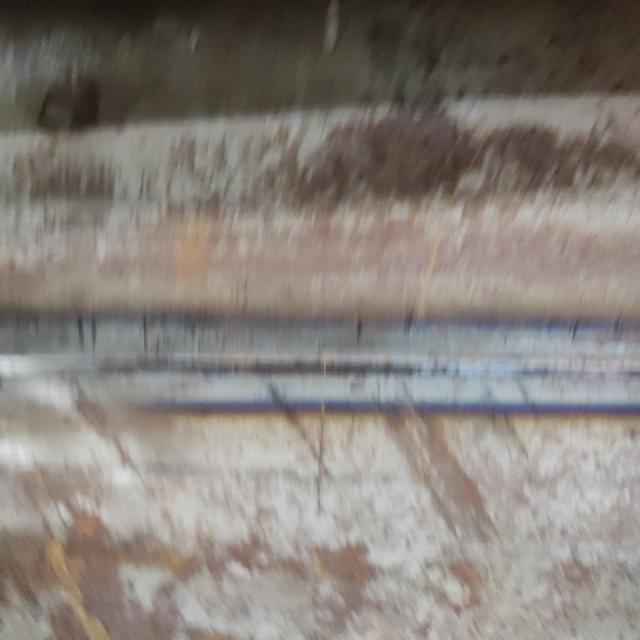seam: (0, 285, 640, 426)
